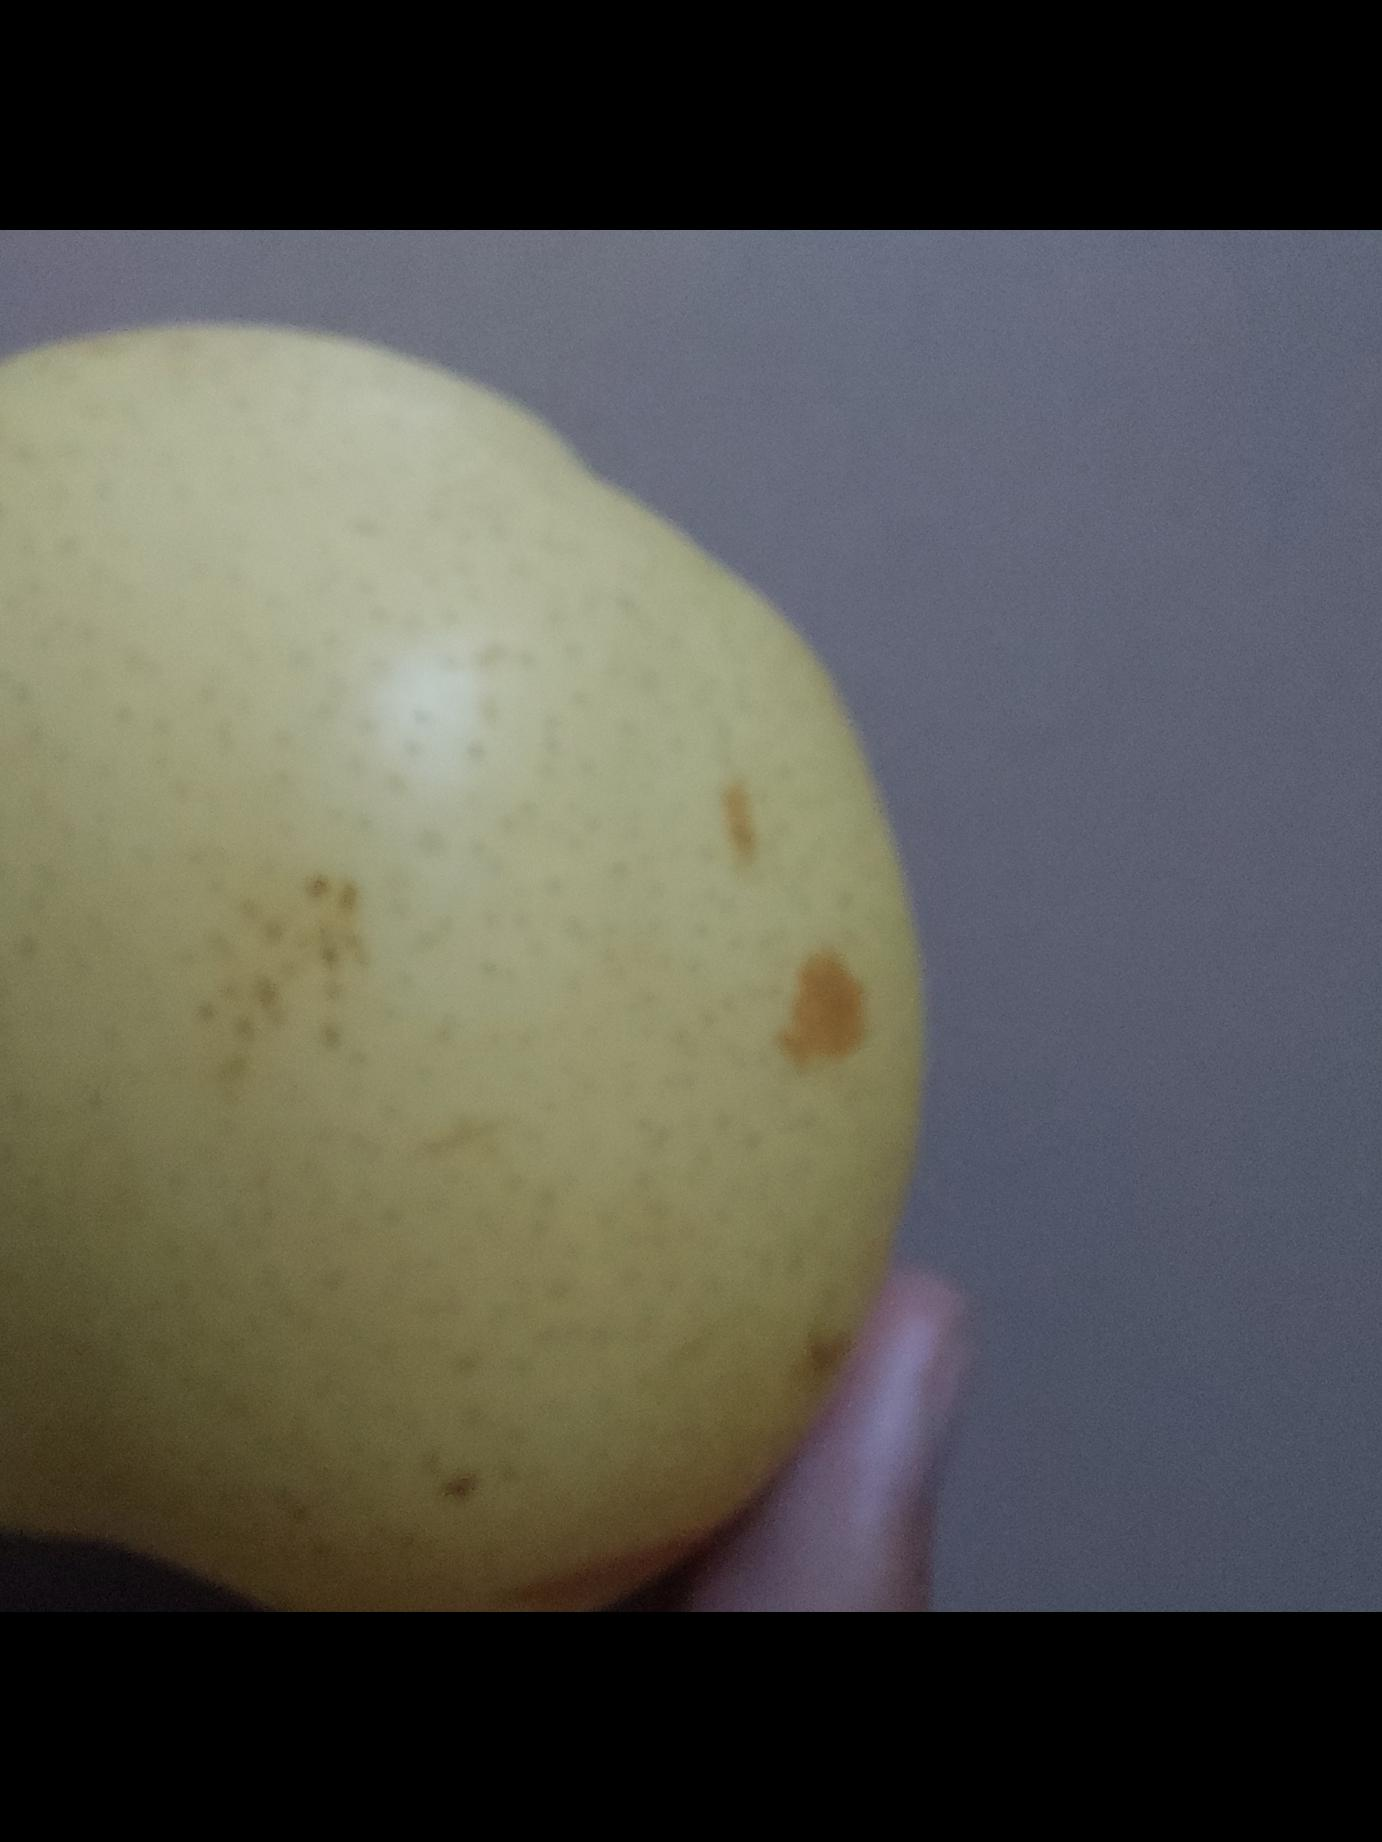Good Pear: (0, 312, 904, 1612)
